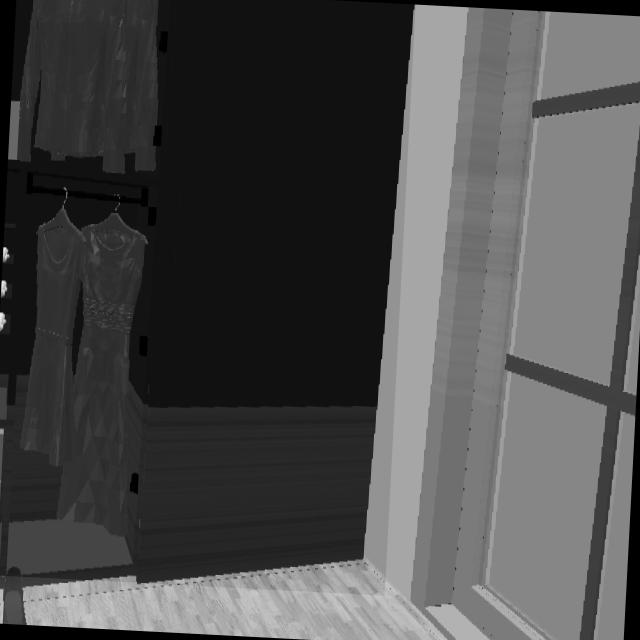wardrobe: (0, 0, 416, 577)
